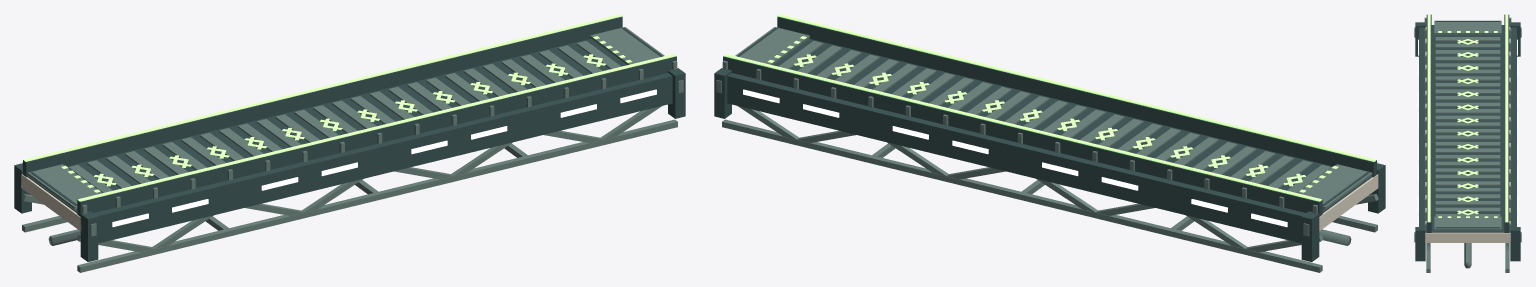
The model's file is Deck_Conveyor_Belt_v4_16_lab.glb.
3 views of the same model, side by side, from view 1: azimuth 30°, elevation 25°; view 2: azimuth 150°, elevation 25°; view 3: azimuth 270°, elevation 25° (orthographic). The views are drawn at different scales.
Visible parts, largest first — view 1: Deck_Conveyor_Belt_v4_16, Treads, TreadsRev; view 2: Deck_Conveyor_Belt_v4_16, Treads, TreadsRev; view 3: Deck_Conveyor_Belt_v4_16, Treads, TreadsRev.
Part boxes in pixels (x1,y1,x2,y2): Deck_Conveyor_Belt_v4_16: (14, 14, 685, 272); Treads: (68, 41, 620, 192); TreadsRev: (68, 41, 620, 192); Deck_Conveyor_Belt_v4_16: (714, 14, 1385, 272); Treads: (779, 41, 1331, 192); TreadsRev: (779, 41, 1330, 192); Deck_Conveyor_Belt_v4_16: (1414, 14, 1521, 272); Treads: (1435, 37, 1500, 216); TreadsRev: (1435, 37, 1500, 216).
Bounding box in the file's own units: 16.05 × 1.83 × 3.48.
